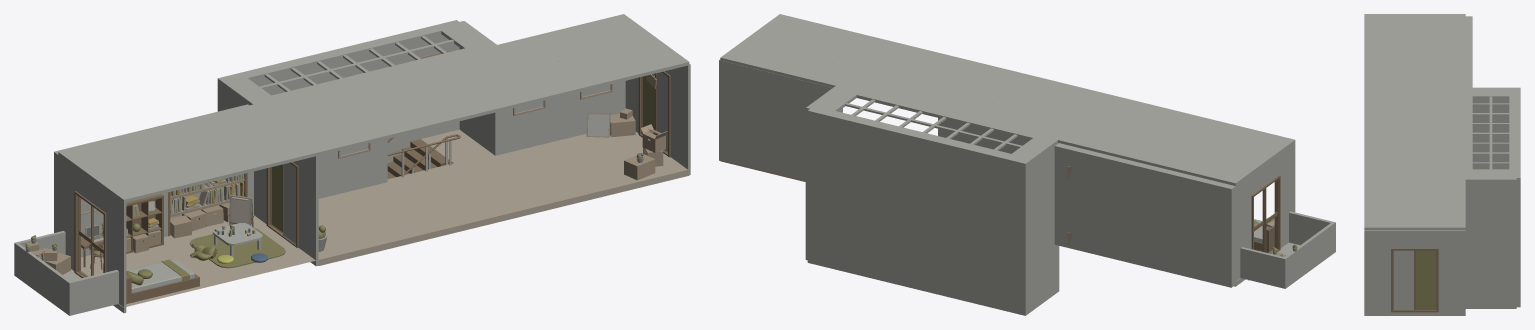
The model's file is kidbedroom_sad.fbx.
The picture shows the model from 3 angles, left to right: view 1: azimuth 30°, elevation 25°; view 2: azimuth 150°, elevation 25°; view 3: azimuth 270°, elevation 25°; orthographic projection. The views are drawn at different scales.
Parts seen in each view (by area): view 1: pPlane124 (×2), pPlane541, pPlane109, pPlane555, pPlane556, kidbedroom1_pPlane53, pPlane542, kidbedroom1_pPlane123, pPlane365, pPlane125, pPlane376, pPlane554 (+22 smaller); view 2: pPlane542, polySurface588, pPlane541, pPlane109, pPlane556, pPlane555, pPlane545, kidbedroom1_pPlane123, pPlane365, pPlane125, pPlane357, pPlane546 (+2 smaller); view 3: pPlane541, pPlane109, pPlane544, pPlane554, pPlane555, pPlane545, polySurface660, polySurface662, pPlane542, polySurface661, polySurface588, pPlane546 (+2 smaller).
Boxes of the visible parts, box(x1,y1,x2,y2) form: pPlane124 (×2): box(318, 132, 688, 265); pPlane541: box(221, 22, 557, 155); pPlane109: box(58, 104, 318, 202); pPlane555: box(493, 14, 689, 96); pPlane556: box(492, 81, 625, 155); kidbedroom1_pPlane53: box(81, 215, 315, 307); pPlane542: box(217, 20, 459, 162); kidbedroom1_pPlane123: box(14, 231, 118, 315); pPlane365: box(58, 155, 126, 313); pPlane125: box(318, 139, 387, 198); pPlane376: box(254, 155, 318, 266); pPlane554: box(625, 64, 690, 175); pPlane542: box(807, 109, 1027, 315); polySurface588: box(1054, 143, 1235, 287); pPlane541: box(810, 43, 1117, 161); pPlane109: box(1058, 96, 1295, 185); pPlane556: box(720, 60, 842, 179); pPlane555: box(720, 14, 899, 87); pPlane545: box(1024, 138, 1059, 313); kidbedroom1_pPlane123: box(1240, 211, 1335, 288); pPlane365: box(1234, 143, 1295, 286); pPlane125: box(938, 118, 1029, 153); pPlane357: box(1251, 175, 1280, 253); pPlane546: box(845, 103, 1022, 148); pPlane541: box(1364, 87, 1516, 177); pPlane109: box(1364, 14, 1465, 87); pPlane544: box(1465, 178, 1516, 308); pPlane554: box(1364, 230, 1465, 315); pPlane555: box(1364, 178, 1465, 229); pPlane545: box(1463, 88, 1509, 169); polySurface660: box(1415, 250, 1436, 310); polySurface662: box(1393, 250, 1414, 310); pPlane542: box(1516, 87, 1520, 307); polySurface661: box(1391, 248, 1438, 312); polySurface588: box(1465, 16, 1472, 87); pPlane546: box(1489, 96, 1492, 169).
Bounding box in the file's own units: 26.13 × 6.74 × 7.4.
